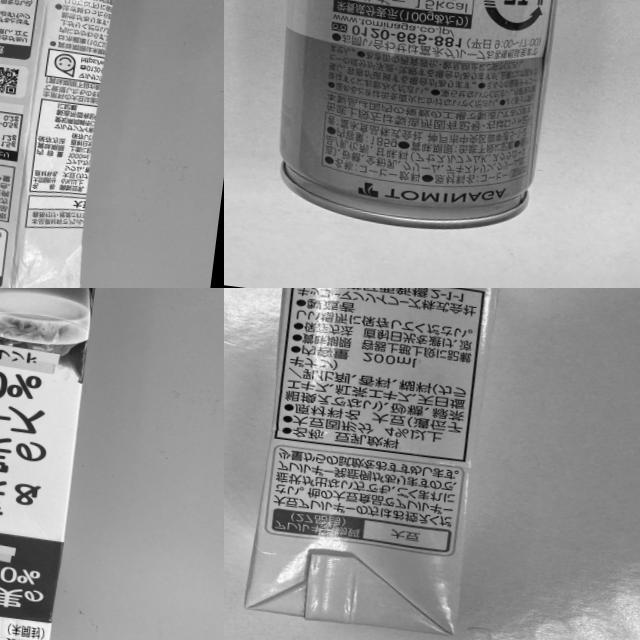Aluminium Foil: (230, 288, 515, 640), (0, 288, 125, 640), (0, 0, 141, 288)
Can: (252, 0, 578, 240)
